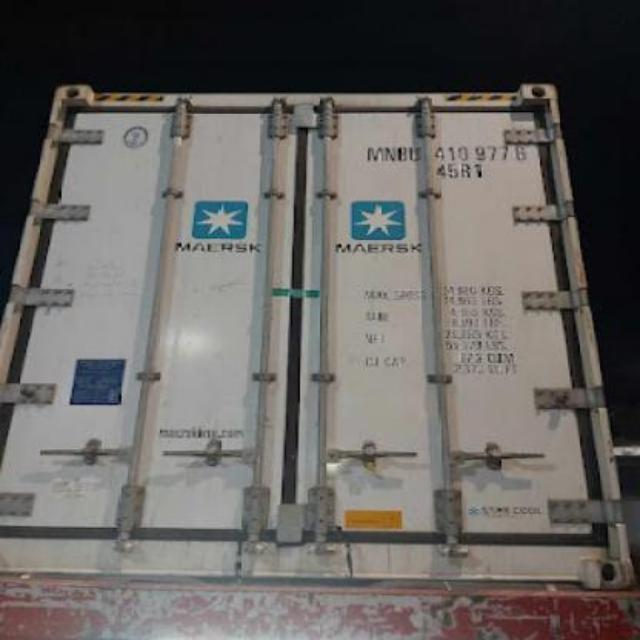0: (458, 146, 470, 162)
1: (448, 144, 458, 162)
4: (434, 146, 446, 160)
6: (516, 144, 526, 162)
7: (486, 144, 499, 162), (500, 144, 512, 162)
9: (476, 144, 486, 162)
B: (398, 146, 408, 164)
M: (364, 146, 384, 164)
N: (386, 146, 398, 164)
U: (408, 148, 422, 162)
